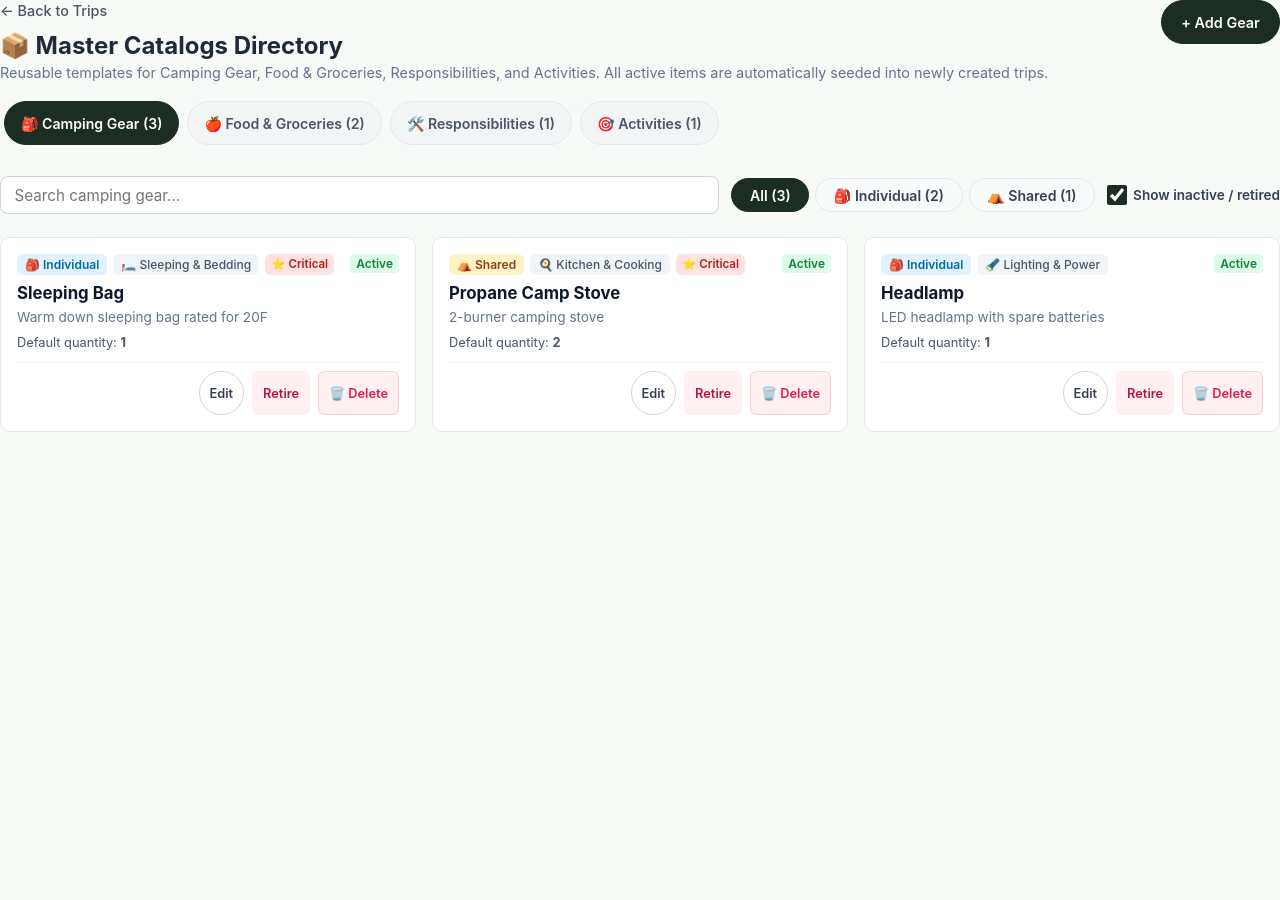
Test: MasterCatalogPage › allows adding a new master food item via modal
Expected: the heading "Sleeping Bag" is shown, [17,283,124,303]
Switch to Food tab
Click the tab "🍎 Food & Groceries (2)": (285, 123) [187,101,382,145]
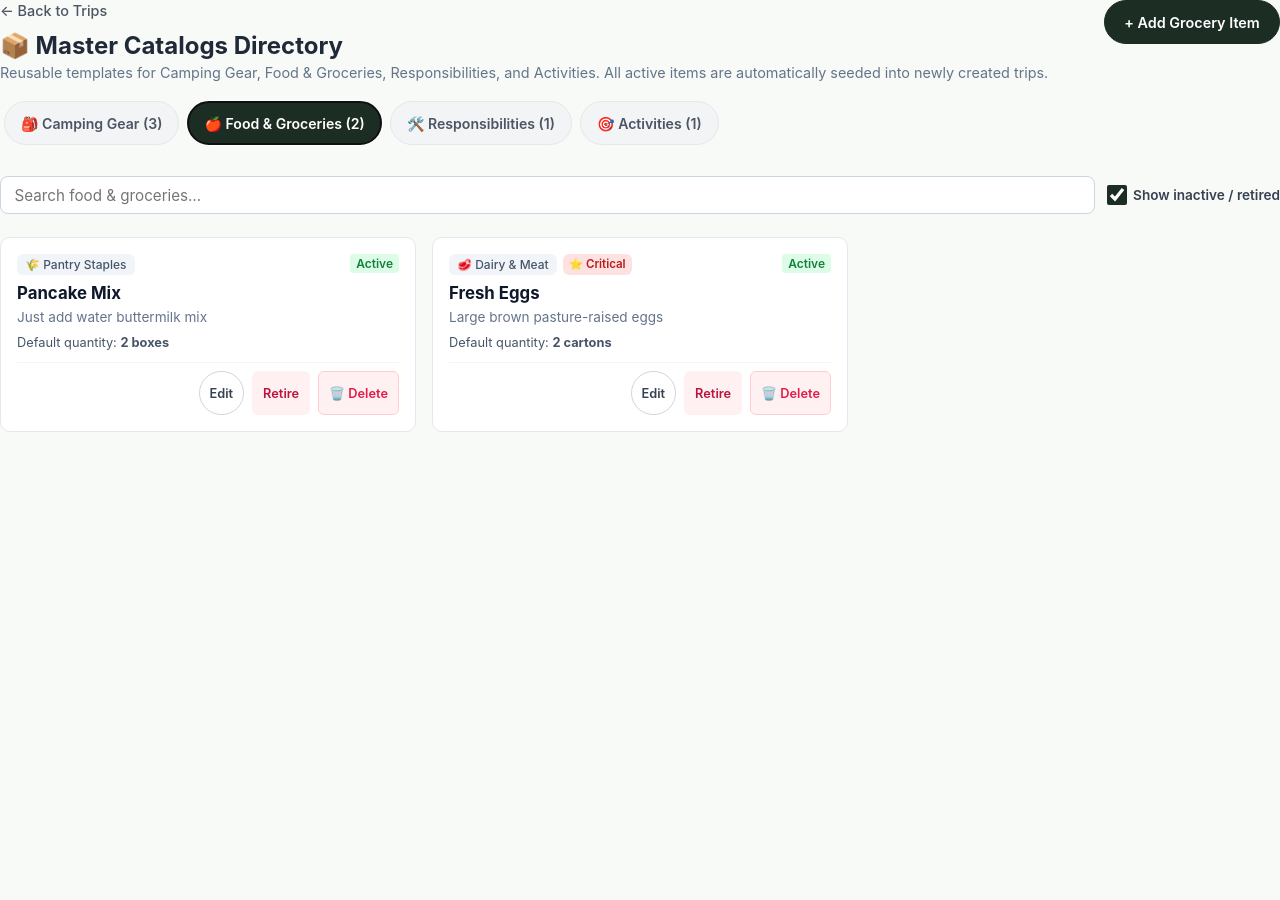
Click the button "+ Add Grocery Item": (1192, 22) [1104,0,1279,44]
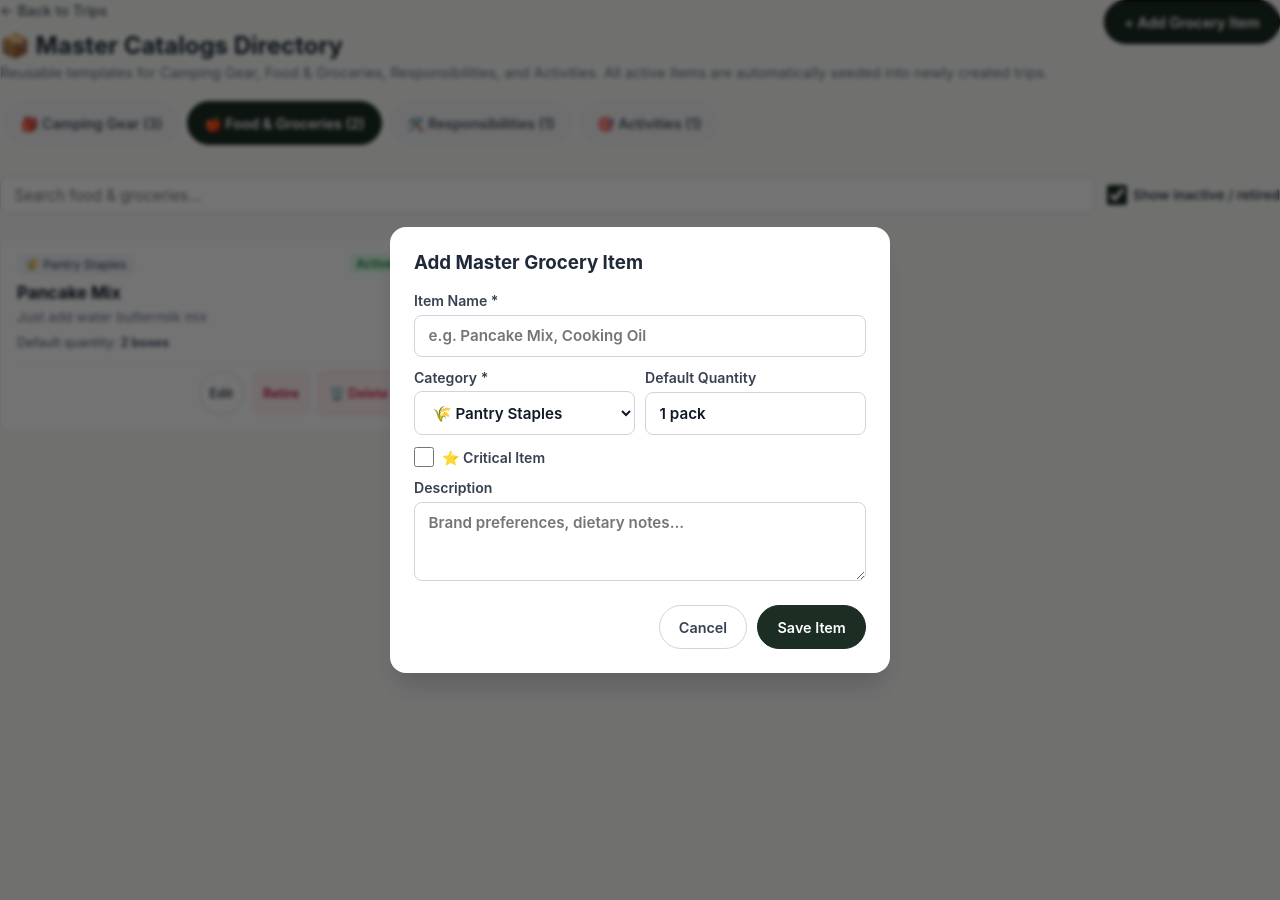
Result: the dialog "Add Master Grocery Item" is shown at [390,227,890,673]
In the field labelled "Item Name *": (640, 336) [414,315,866,357], type "Marshmallows"
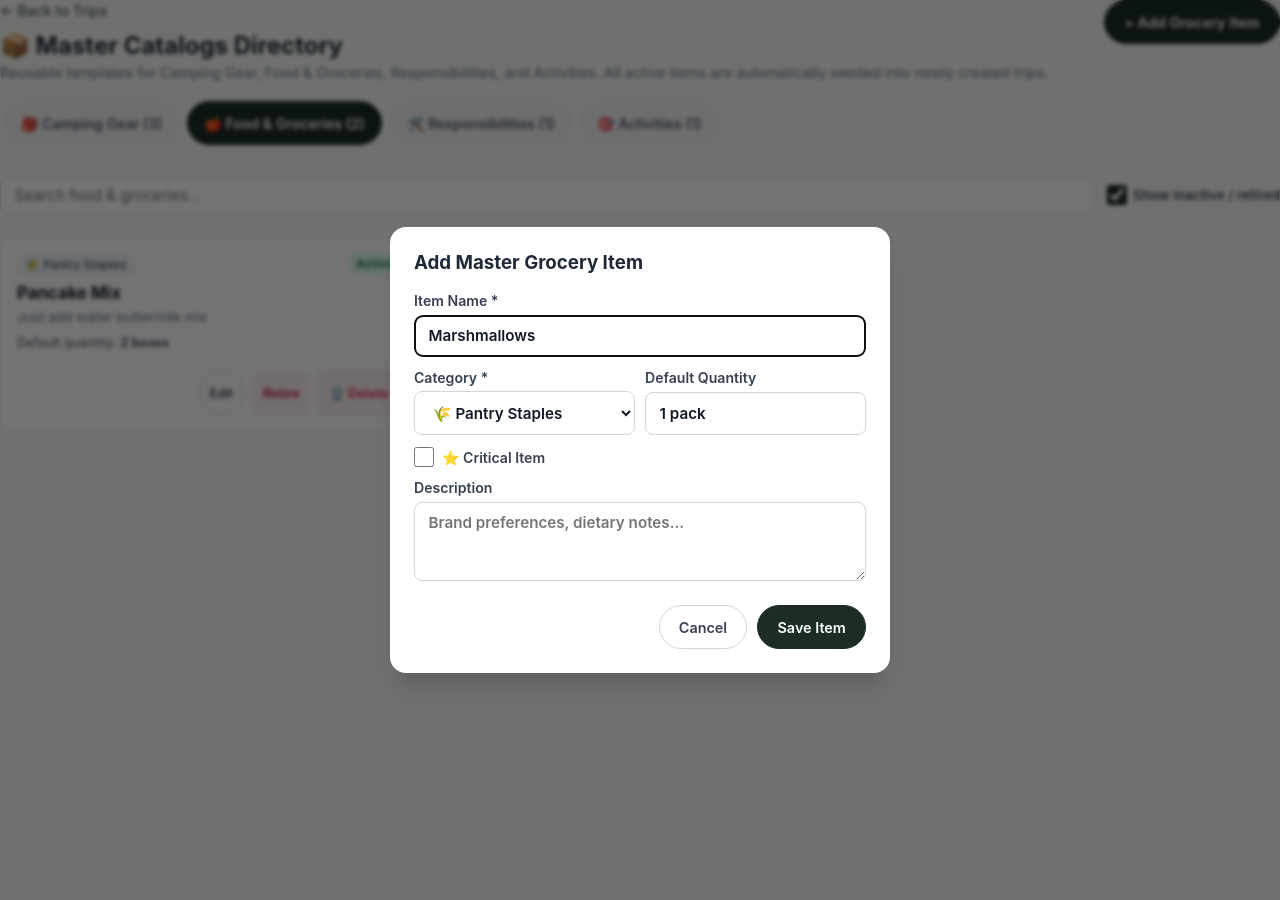
Select "🔥 Campfire & S'mores" in the dropdown labelled "Category *": (524, 413) [414,391,635,435]
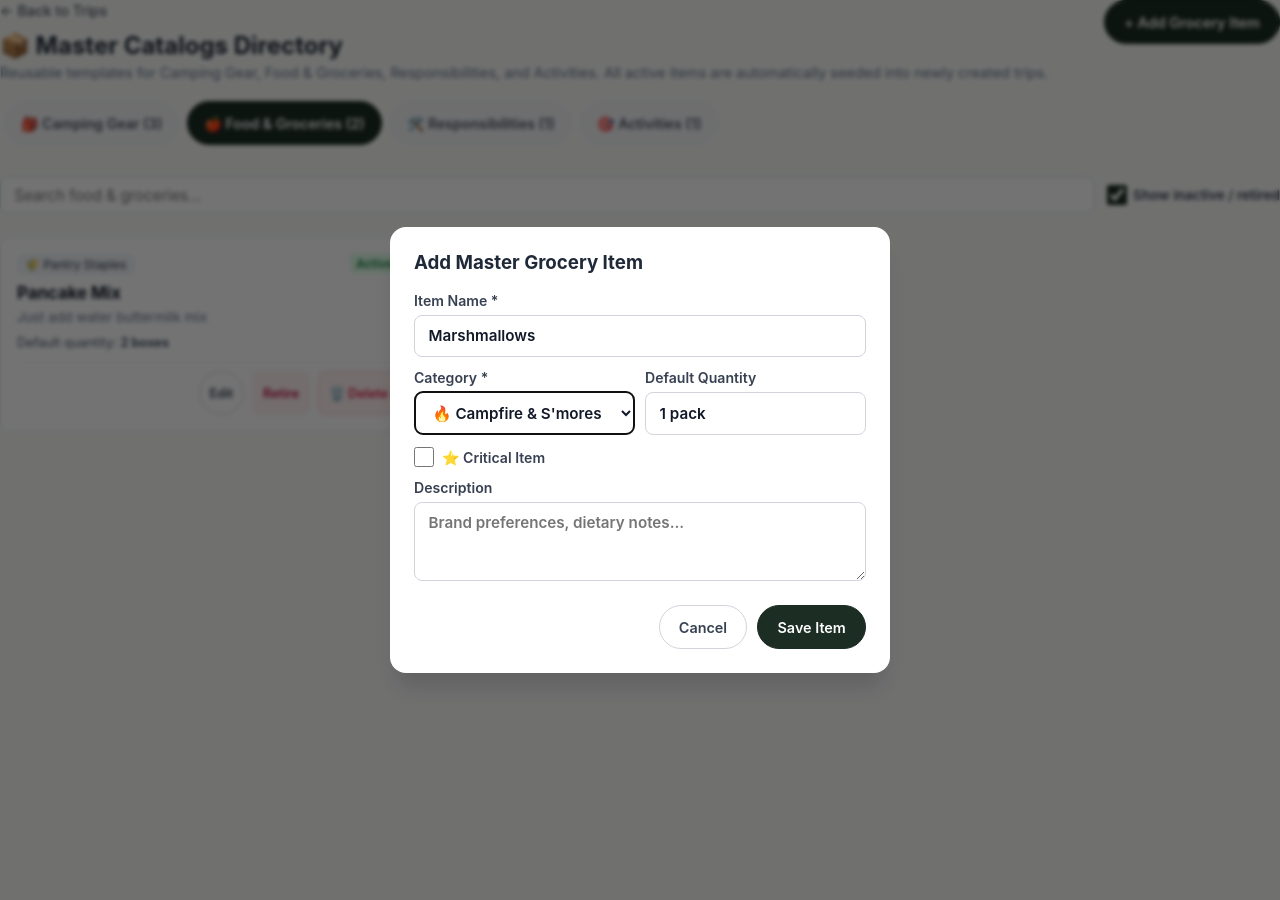
Click the button "Save Item": (812, 627) [757,605,866,649]
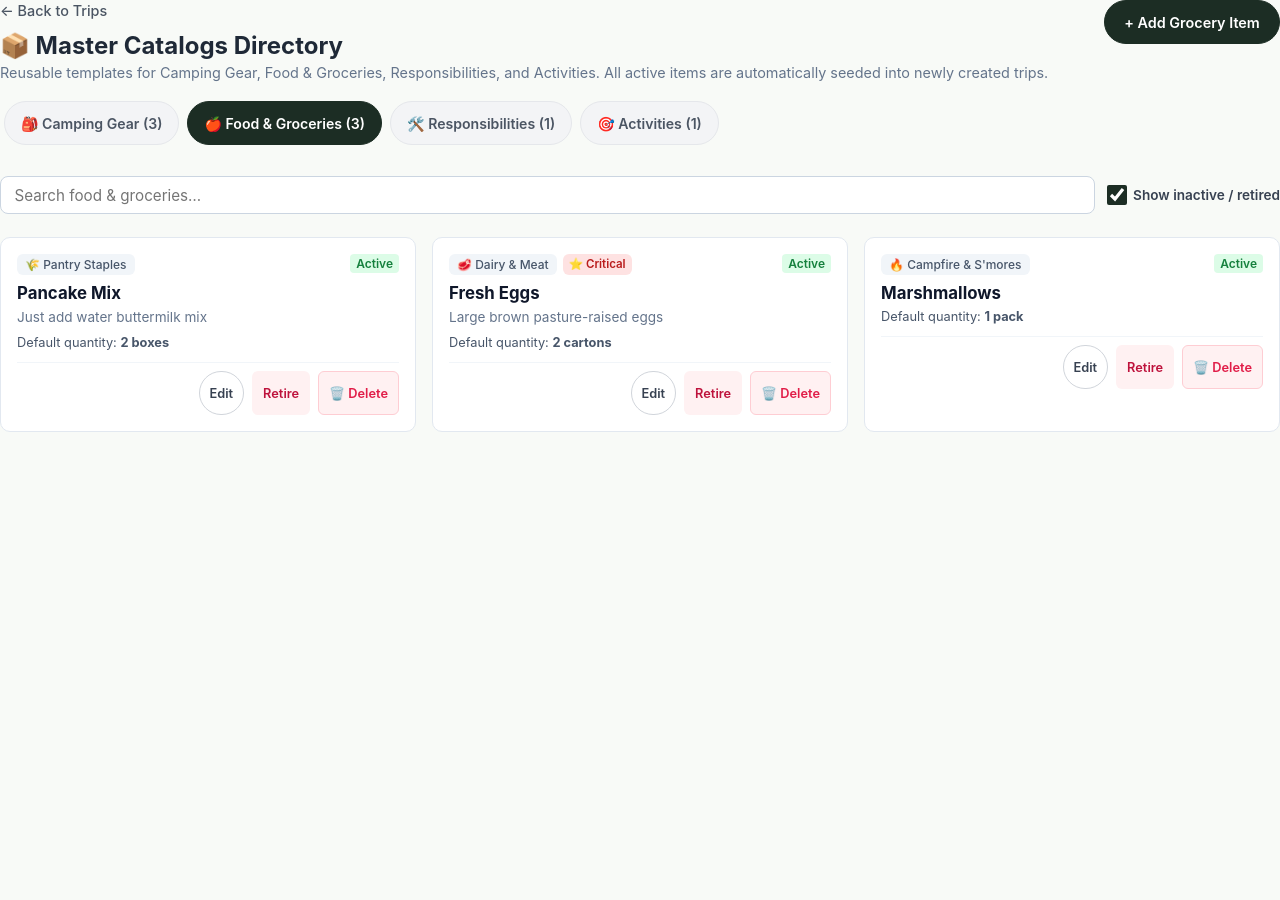
Result: the heading "Marshmallows" is shown at [881,283,1001,303]
